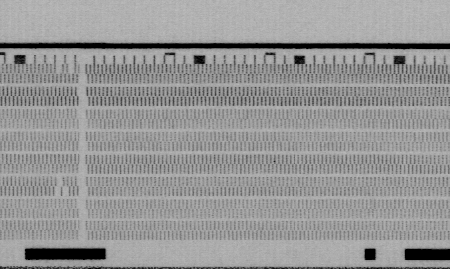Broken hole: (52, 177, 71, 197), (53, 63, 76, 76)
